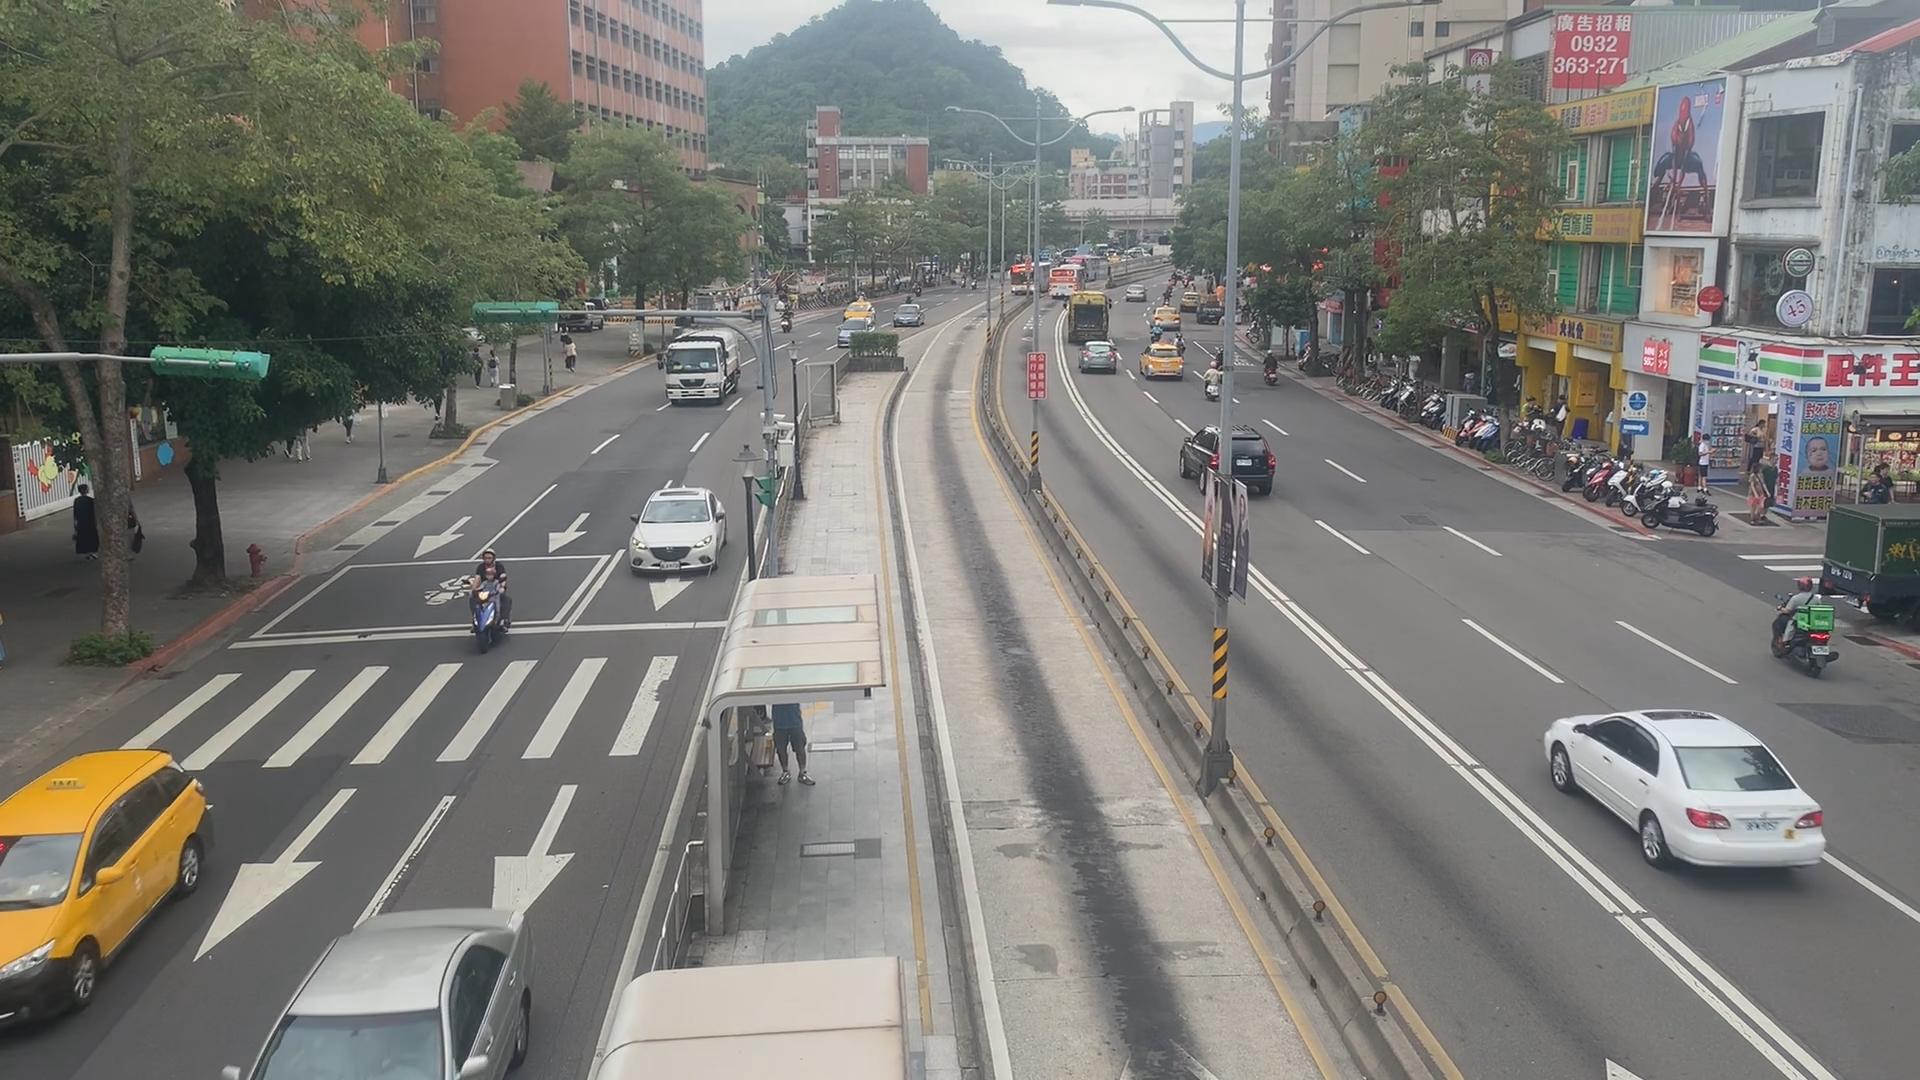Bus: (661, 328, 742, 406), (1062, 290, 1121, 345), (1043, 257, 1087, 302), (1010, 258, 1052, 301)
Business Passenger Car: (1, 742, 207, 1031), (1138, 340, 1187, 382), (840, 295, 880, 324)
Motorcycle: (1774, 574, 1840, 671), (462, 547, 522, 645), (1193, 365, 1232, 407), (1262, 347, 1283, 392)
Private Passenger Car: (225, 899, 531, 1080), (1536, 698, 1826, 876), (632, 483, 725, 574), (1178, 422, 1271, 483), (1076, 336, 1116, 375), (831, 318, 878, 345), (894, 295, 924, 336), (1120, 278, 1147, 302)
